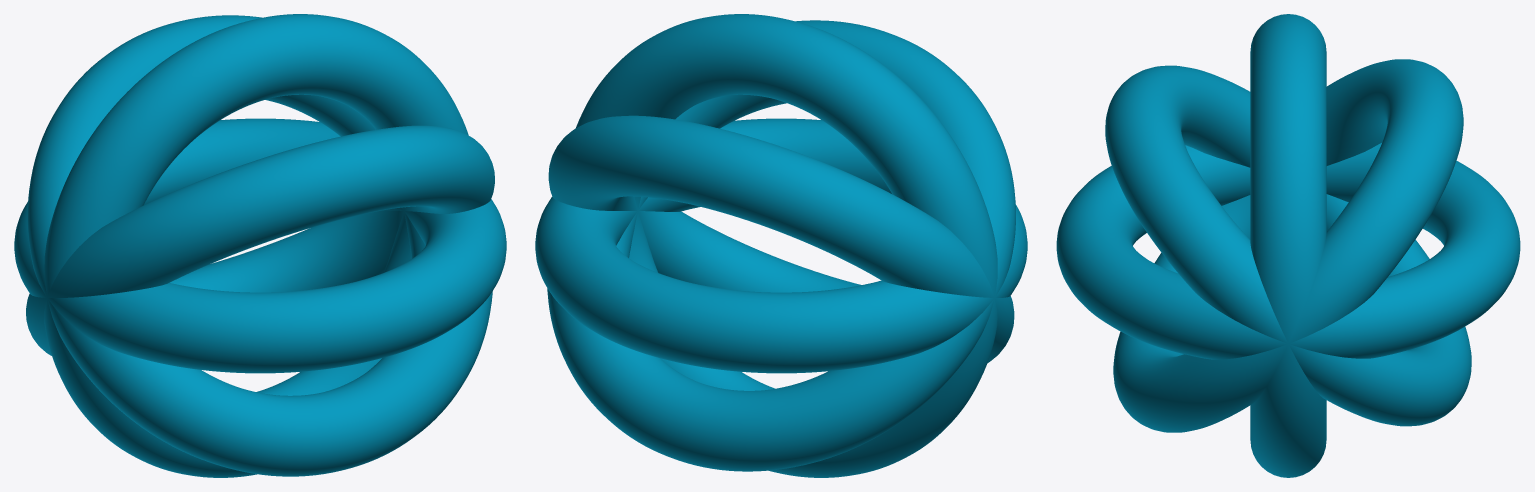
Rendered from BallBlue.fbx.
3 views of the same model, side by side, from view 1: azimuth 30°, elevation 25°; view 2: azimuth 150°, elevation 25°; view 3: azimuth 270°, elevation 25° (orthographic). The views are drawn at different scales.
Visible parts, largest first — view 1: UV Torus2, UV Torus3, UV Torus1, UV Torus4; view 2: UV Torus3, UV Torus2, UV Torus1, UV Torus4; view 3: UV Torus4, UV Torus3, UV Torus2, UV Torus1.
Part boxes in pixels (<box>): UV Torus2: <box>27,15,492,476</box>; UV Torus3: <box>26,125,494,355</box>; UV Torus1: <box>44,14,468,477</box>; UV Torus4: <box>14,118,506,373</box>; UV Torus3: <box>547,20,1015,471</box>; UV Torus2: <box>548,115,1014,363</box>; UV Torus1: <box>576,14,997,477</box>; UV Torus4: <box>535,118,1027,373</box>; UV Torus4: <box>1056,143,1520,359</box>; UV Torus3: <box>1105,65,1471,426</box>; UV Torus2: <box>1113,59,1463,432</box>; UV Torus1: <box>1250,14,1326,477</box>.
Size of the model in its own units: 23.91 by 23.91 by 23.91.
